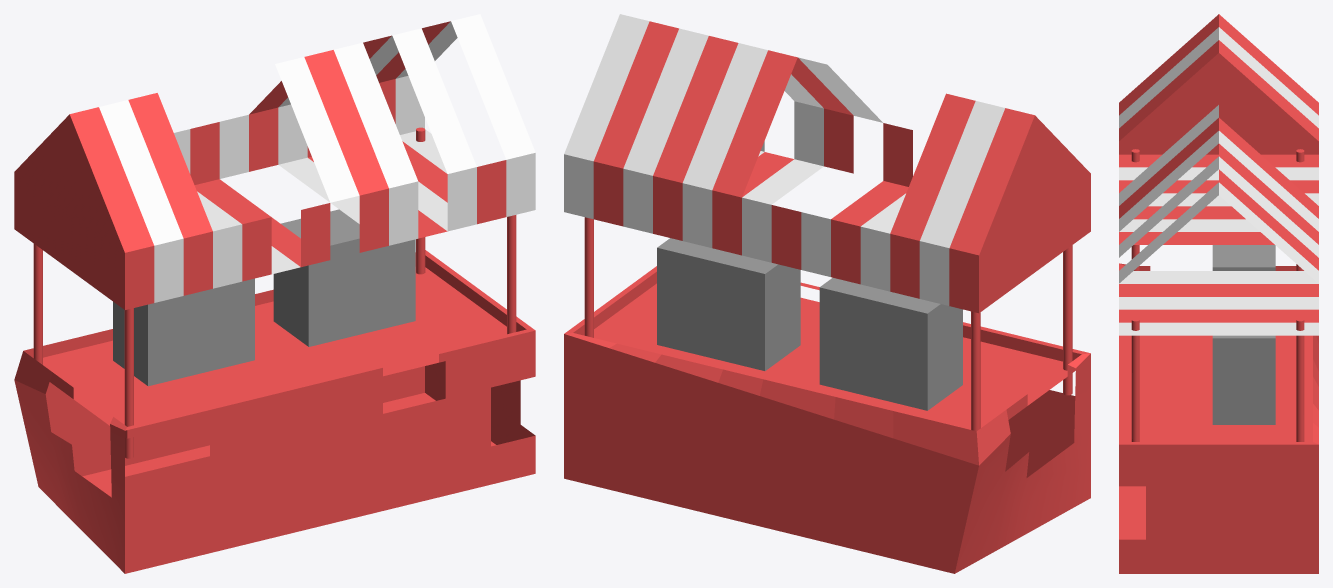
The model's file is 14 Popcorn_Cart.FBX.
3 renders of one model, left to right at view 1: azimuth 30°, elevation 25°; view 2: azimuth 150°, elevation 25°; view 3: azimuth 270°, elevation 25°, orthographic. The views are drawn at different scales.
Visible parts, largest first — view 1: Popcorn_Cart; view 2: Popcorn_Cart; view 3: Popcorn_Cart.
Part boxes in pixels (x1,y1,x2,y2): Popcorn_Cart: (14,14,535,573); Popcorn_Cart: (564,14,1090,573); Popcorn_Cart: (1119,14,1318,573).
Size of the model in its own units: 1500 by 1463 by 700.
